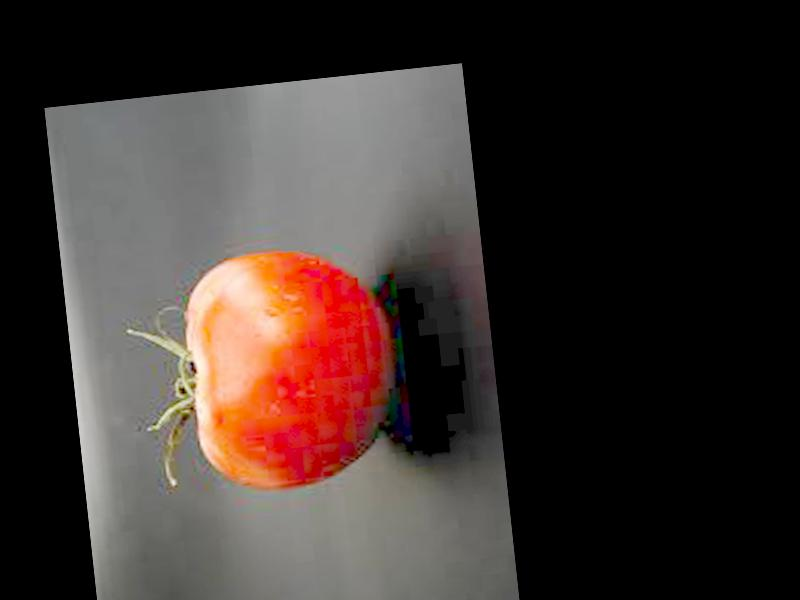Tomato: (178, 237, 402, 496)
